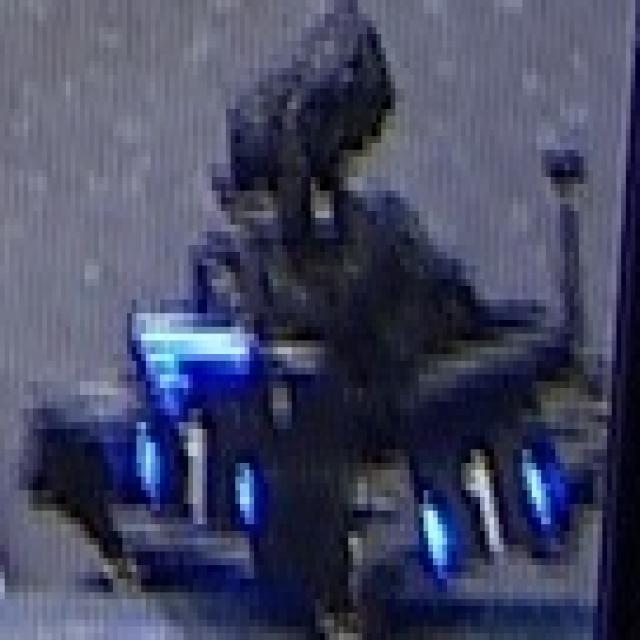B1: (418, 432, 550, 582), (132, 405, 273, 528)
